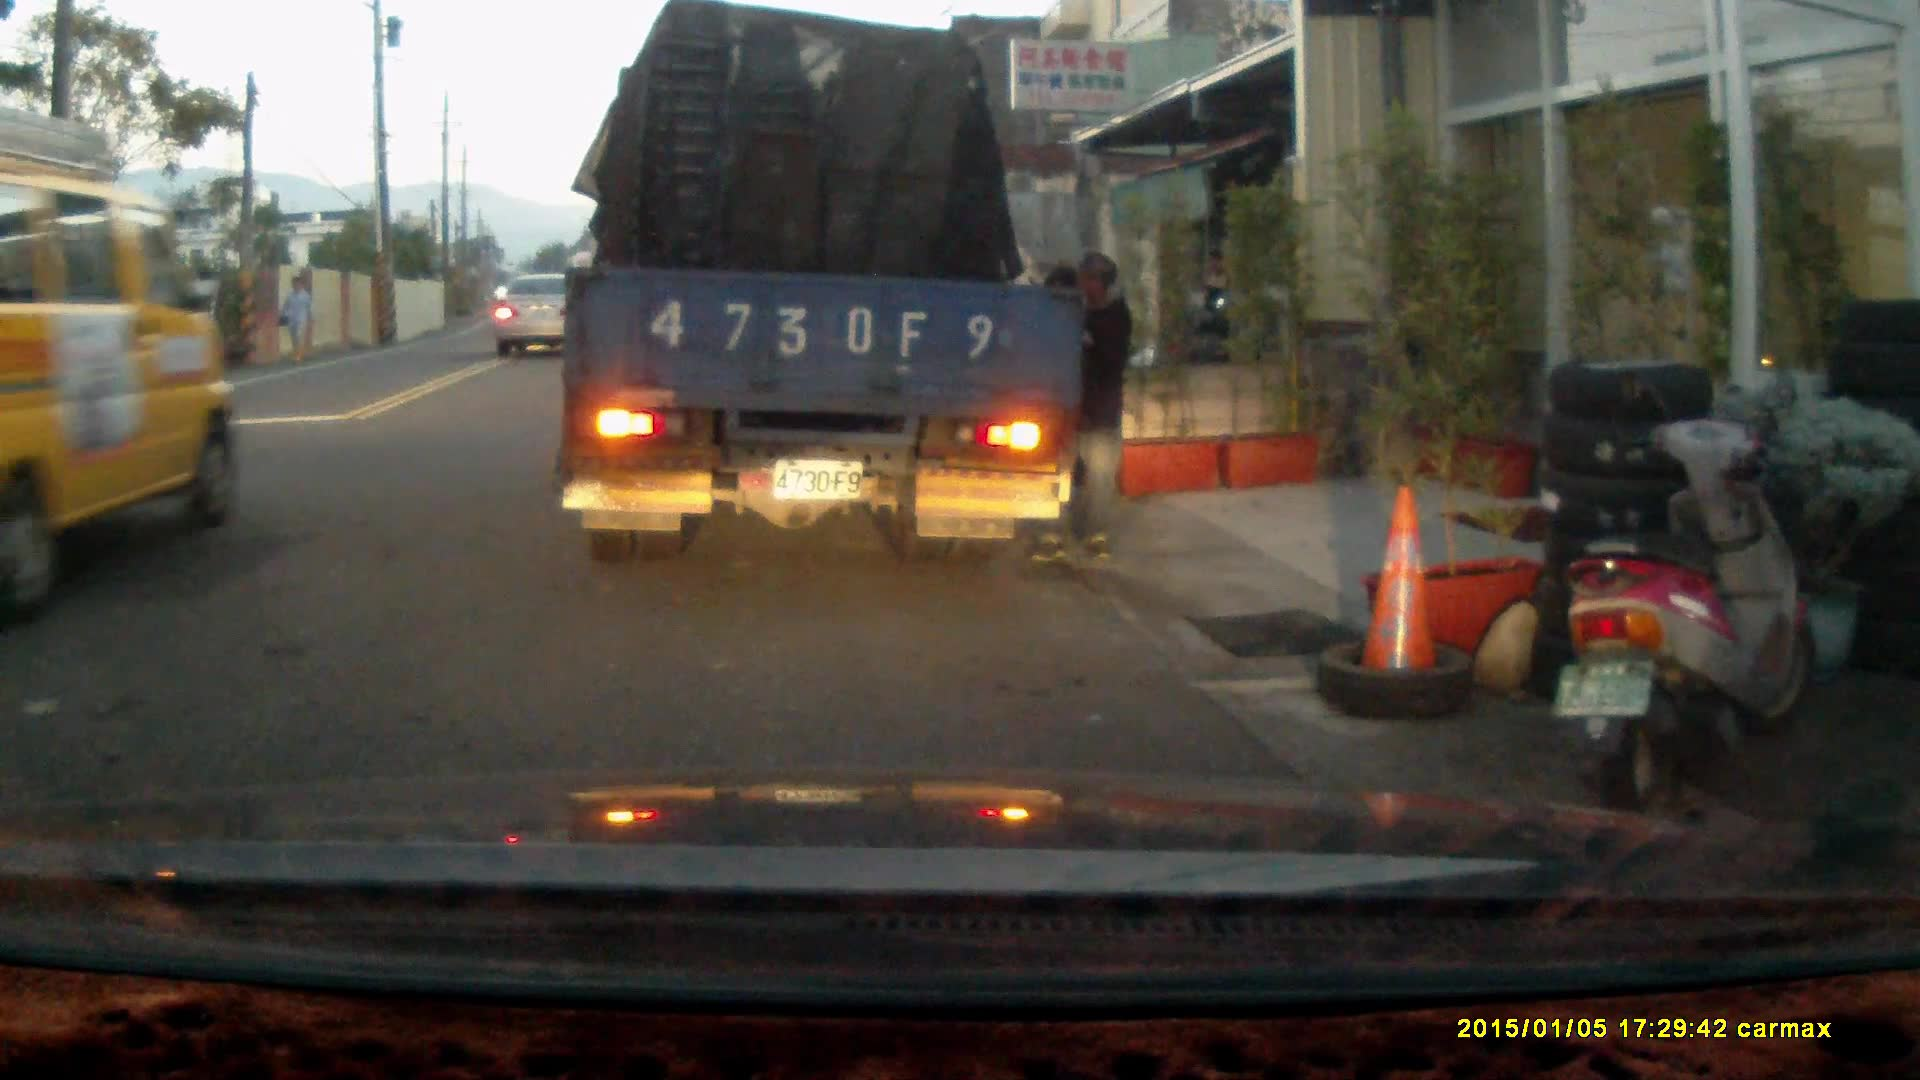pedestrian: (1012, 246, 1132, 562), (274, 273, 315, 368)
vehicle: (557, 25, 1071, 556), (1, 104, 242, 604), (498, 270, 586, 353)
